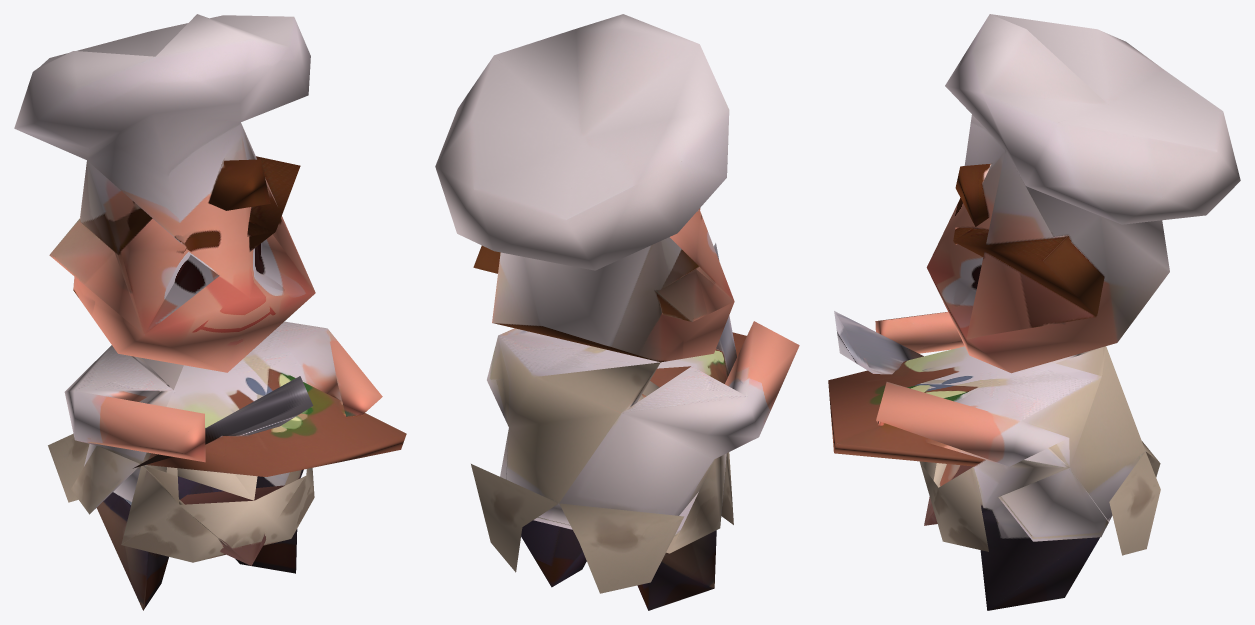
The model's file is chef2.glb.
The picture shows the model from 3 angles, left to right: view 1: azimuth 30°, elevation 25°; view 2: azimuth 150°, elevation 25°; view 3: azimuth 270°, elevation 25°; orthographic projection. The views are drawn at different scales.
Size of the model in its own units: 0.5102 by 1 by 0.6864.
Materials: 1 (1 with a texture image).
